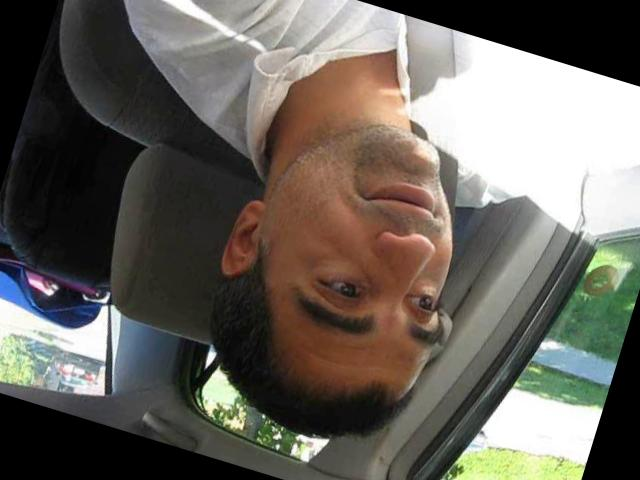eye_open: (310, 264, 374, 308), (401, 283, 444, 322)
face: (258, 136, 490, 382)
